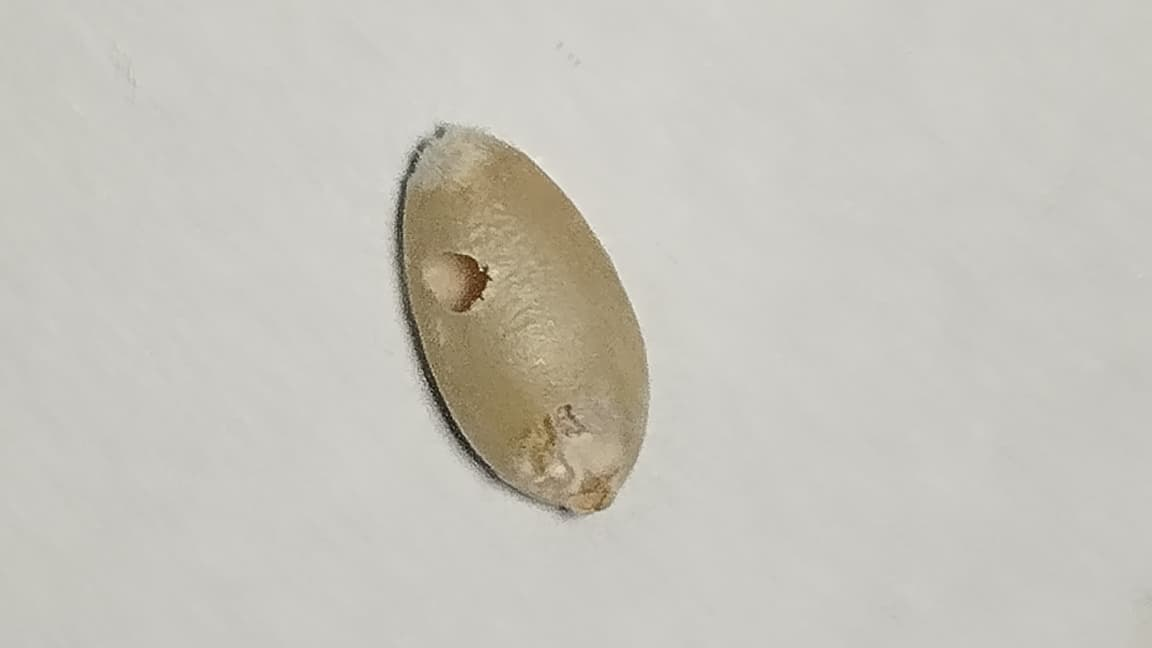damage: (403, 127, 648, 511)
insectdamage: (516, 403, 628, 503), (403, 237, 531, 317)
